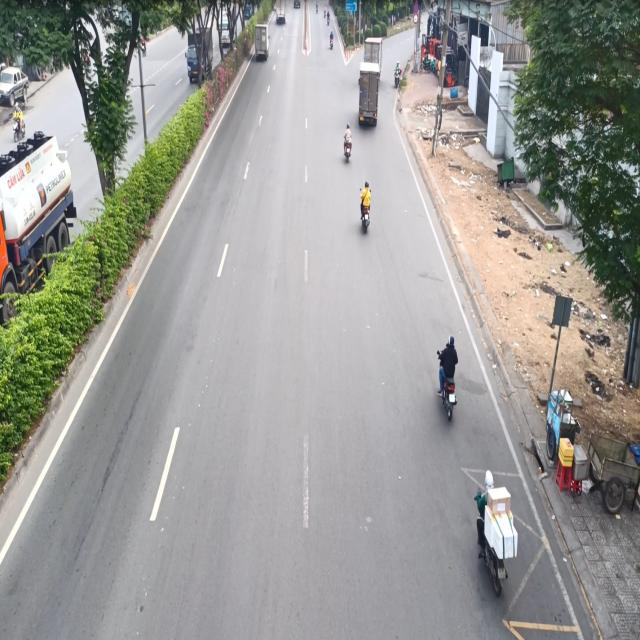motor: (471, 460, 510, 596), (431, 325, 459, 426), (356, 176, 376, 240), (340, 114, 355, 164)
truck: (356, 63, 382, 132), (250, 19, 272, 67)
